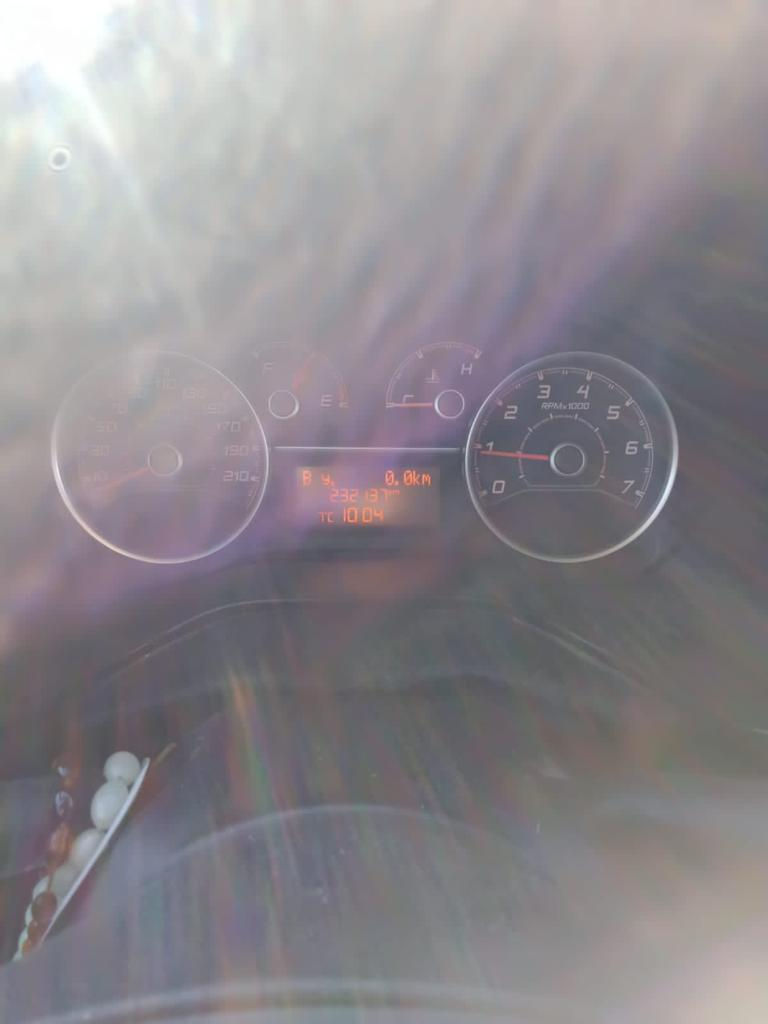,: (329, 479, 335, 486), (394, 479, 399, 487)
0: (361, 506, 372, 523), (347, 506, 357, 523), (384, 469, 394, 485), (403, 469, 412, 486)
1: (342, 506, 347, 522), (363, 488, 368, 503)
2: (349, 488, 360, 503), (328, 487, 338, 502)
3: (368, 487, 378, 502), (339, 487, 348, 502)
4: (373, 508, 384, 522)
7: (378, 487, 388, 502), (316, 510, 324, 523)
X: (302, 469, 312, 485), (412, 469, 421, 486), (421, 472, 431, 485), (320, 472, 329, 485), (327, 510, 335, 523), (393, 489, 400, 496), (388, 487, 393, 496)
odometer: (291, 463, 444, 530)
